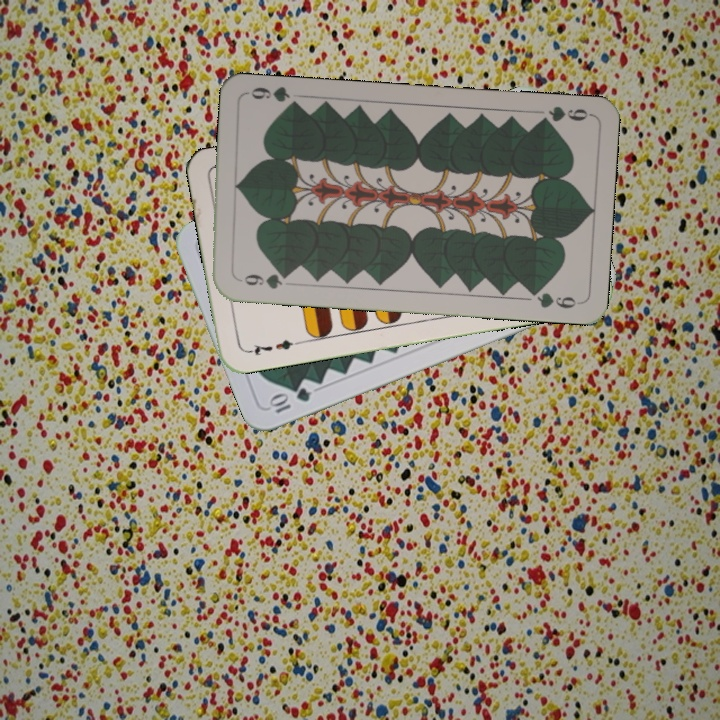E7: (242, 335, 301, 358)
G10: (265, 383, 314, 416)
G9: (534, 102, 593, 128), (233, 269, 292, 292)
